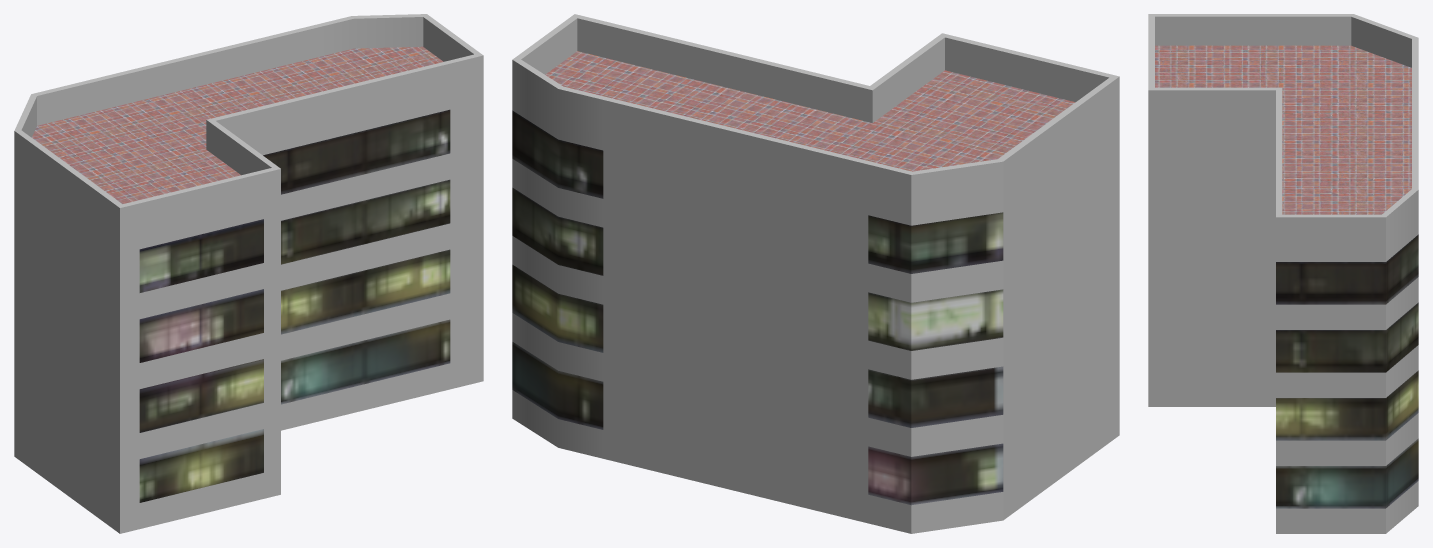
File: hirise_parts04_4f.fbx
The picture shows the model from 3 angles, left to right: view 1: azimuth 30°, elevation 25°; view 2: azimuth 150°, elevation 25°; view 3: azimuth 270°, elevation 25°; orthographic projection. The views are drawn at different scales.
Parts seen in each view (by area): view 1: hirise_parts04_4f; view 2: hirise_parts04_4f; view 3: hirise_parts04_4f.
Boxes of the visible parts, box(x1,y1,x2,y2) form: hirise_parts04_4f: box(14, 14, 483, 533); hirise_parts04_4f: box(512, 14, 1119, 533); hirise_parts04_4f: box(1148, 14, 1418, 533).
Size of the model in its own units: 19.87 by 14.42 by 11.15.
